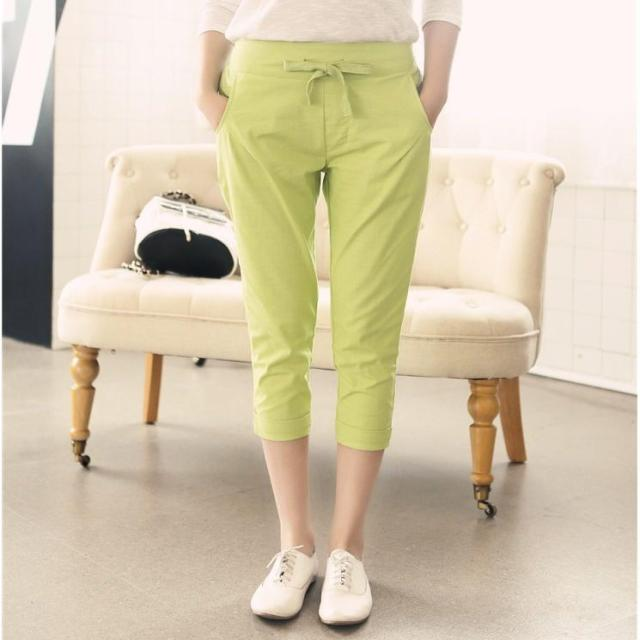long sleeve top: (228, 1, 417, 42)
trousers: (220, 40, 424, 447)
